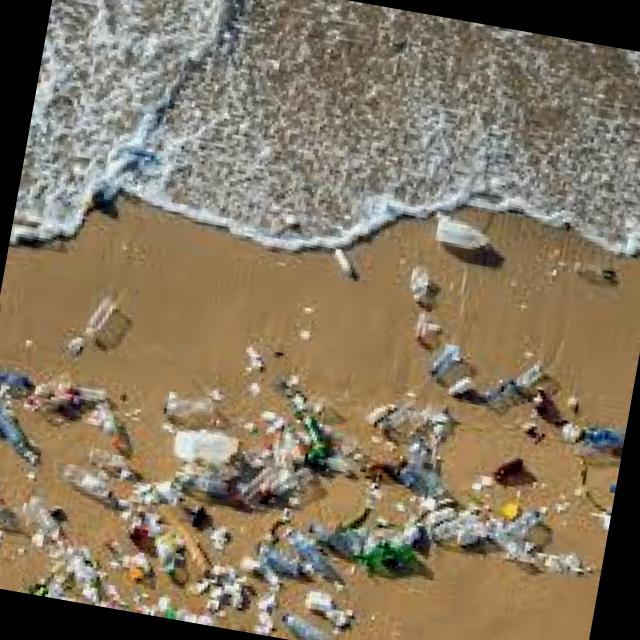garbage: (0, 250, 637, 640)
